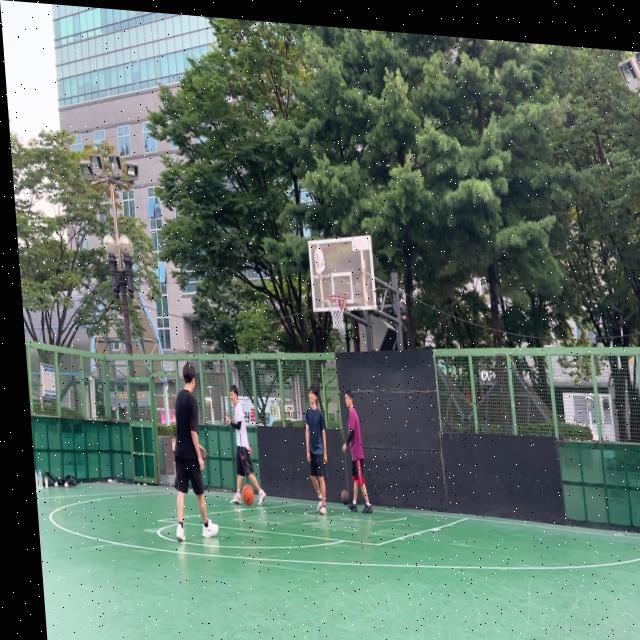basketball: (241, 485, 255, 506)
hoop: (326, 293, 349, 332)
